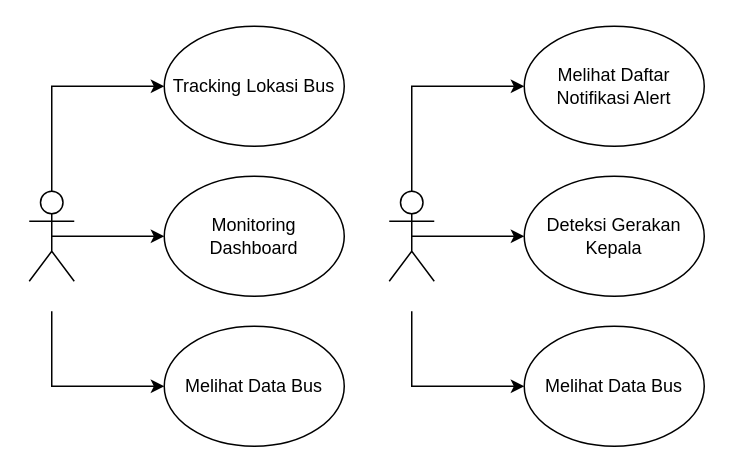
This 731x473 diagram has some shape labels left out. The centre of each missing label's shape, as x and y in pixels:
"Admin" goes at (x=51, y=235).
"Supir" goes at (x=411, y=235).
